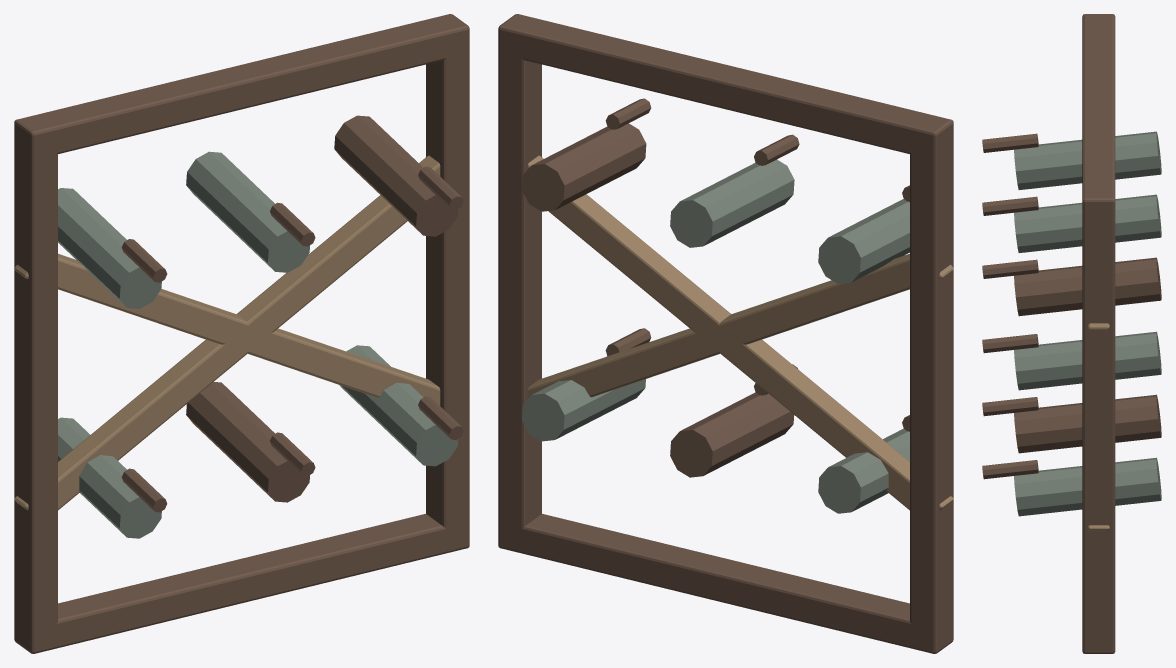
The picture shows the model from 3 angles, left to right: view 1: azimuth 30°, elevation 25°; view 2: azimuth 150°, elevation 25°; view 3: azimuth 270°, elevation 25°; orthographic projection. The views are drawn at different scales.
Visible parts, largest first — view 1: wineRack; view 2: wineRack; view 3: wineRack.
Boxes of the visible parts, left/top/right/bottom form: wineRack: left=14, top=14, right=469, bottom=653; wineRack: left=498, top=14, right=953, bottom=653; wineRack: left=982, top=14, right=1161, bottom=653.
Size of the model in its own units: 0.8106 by 0.91 by 0.3251.
